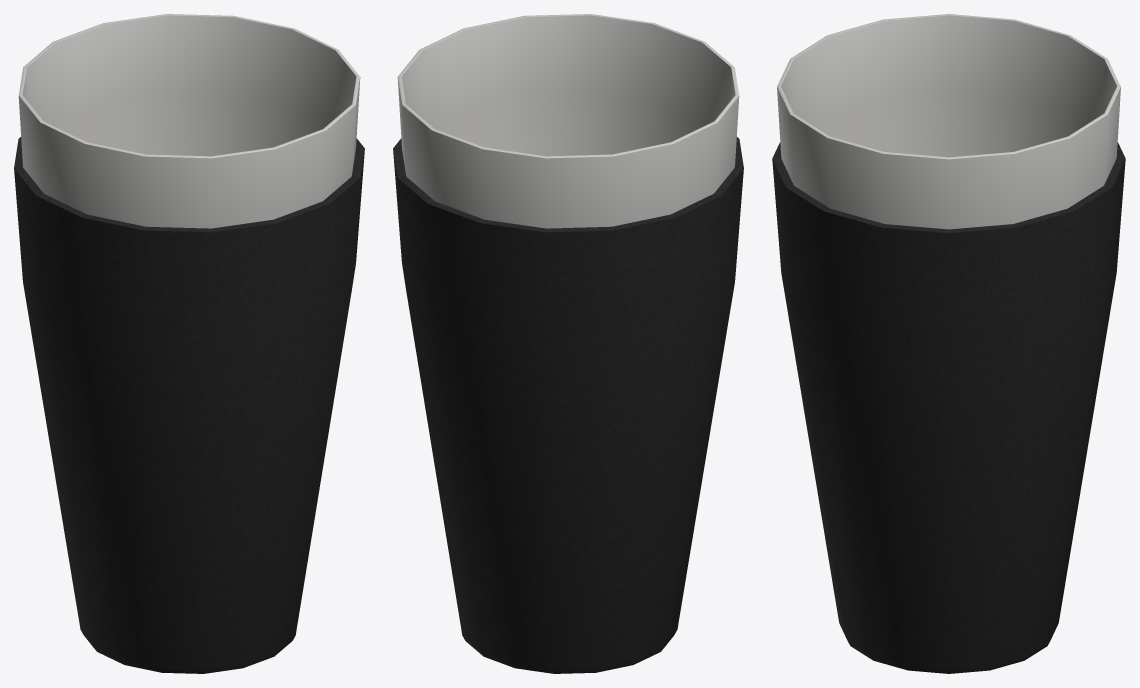
The model's file is Shaker02.FBX.
3 views of the same model, side by side, from view 1: azimuth 30°, elevation 25°; view 2: azimuth 150°, elevation 25°; view 3: azimuth 270°, elevation 25° (orthographic).
Parts seen in each view (by area): view 1: Shaker02; view 2: Shaker02; view 3: Shaker02.
Part boxes in pixels (x1,y1,x2,y2): Shaker02: (14, 14, 364, 673); Shaker02: (393, 14, 743, 673); Shaker02: (772, 14, 1125, 673).
Size of the model in its own units: 8.72 by 14.83 by 8.72.
